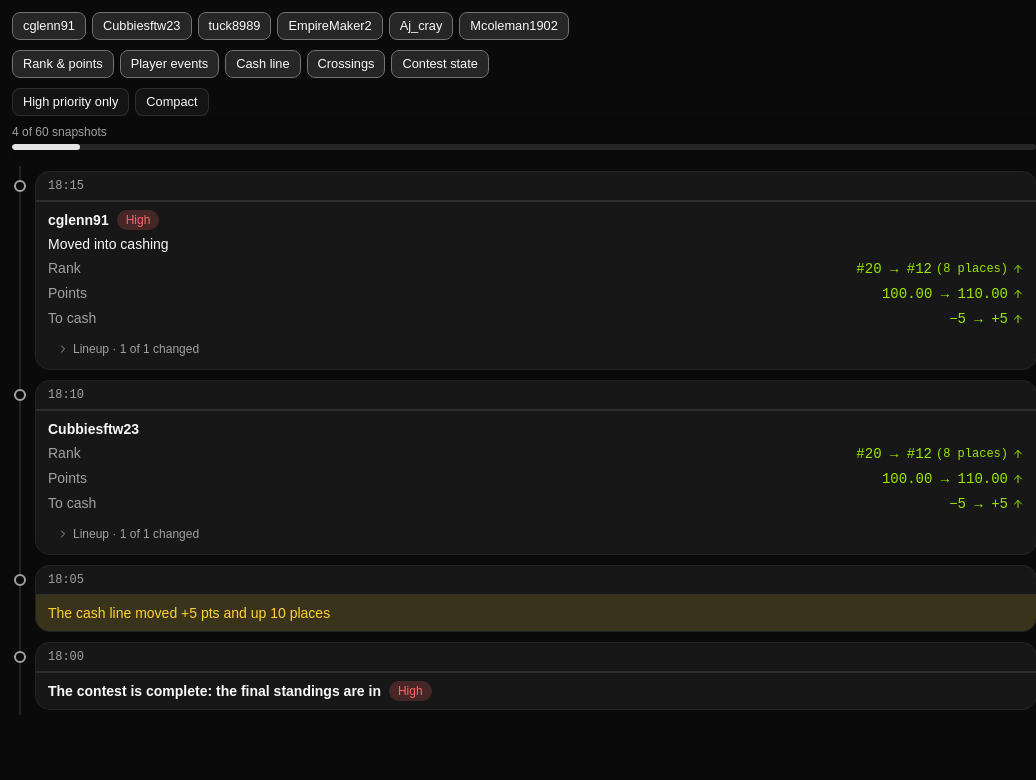
High priority only on the rail › hides the Normal parts of a mixed row behind "+N hidden" and rows with no High part
The image size is (1036, 780).
Click the button "High priority only" at (71, 102), box top-left (12, 88), bottom-right (129, 116)
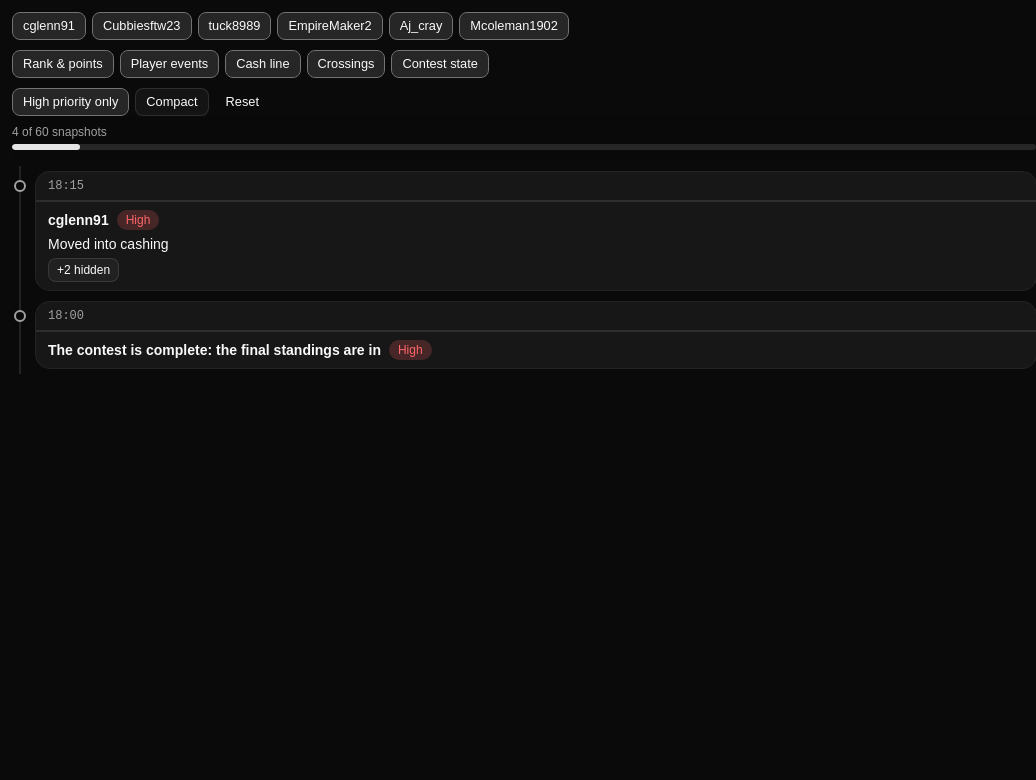
Expected: the text "The contest is complete: the final standings are in High" is shown, top-left (48, 340), bottom-right (432, 360)
Result: the text "The cash line moved" is gone
Click the button "+2 hidden" at (84, 270), box top-left (48, 258), bottom-right (119, 282)
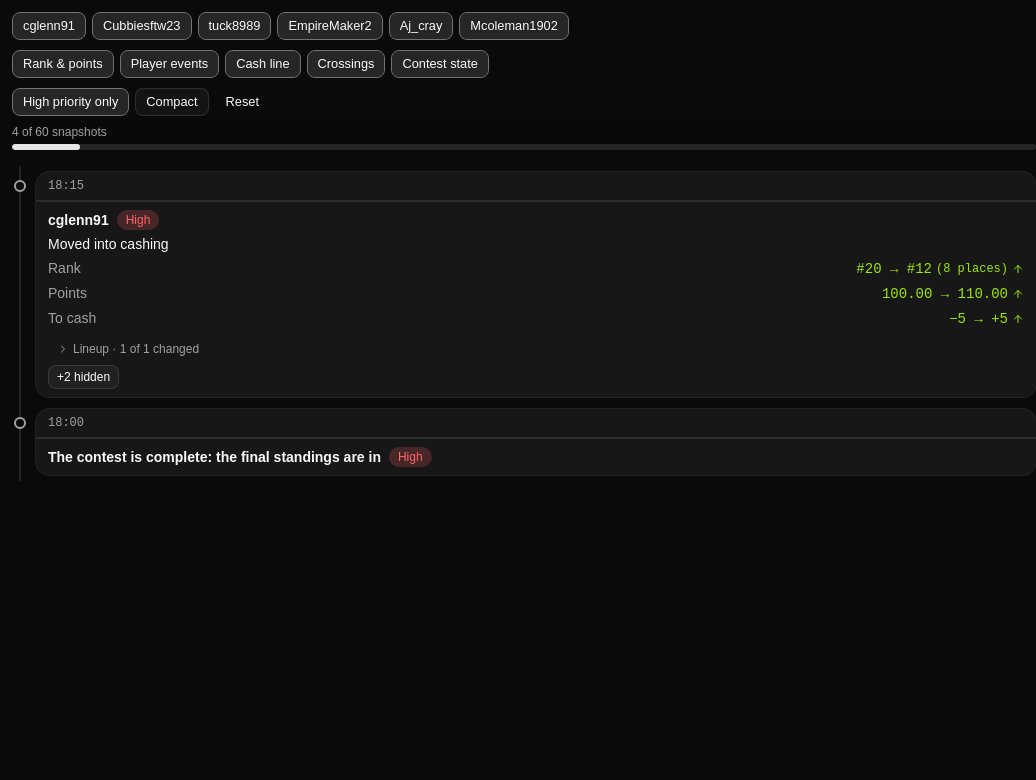
Result: the element "Rank" is shown at top-left (48, 258), bottom-right (1024, 279)
